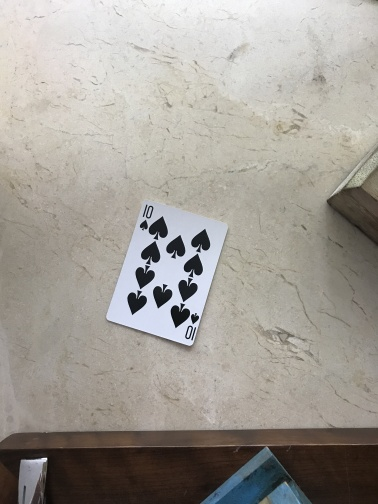ten: (105, 197, 231, 349)
